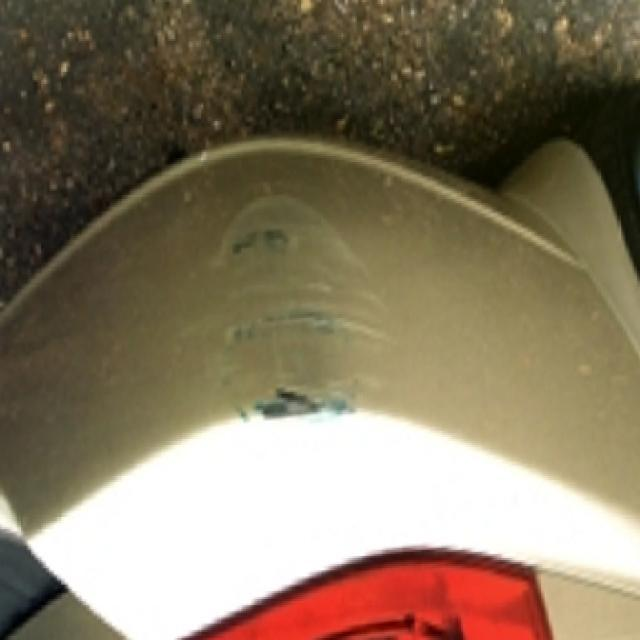scratch: (210, 194, 384, 424)
